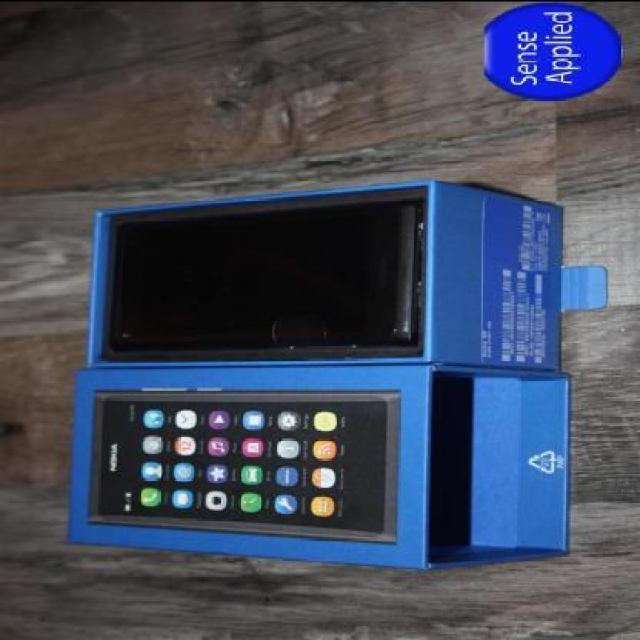phone: (63, 374, 434, 556), (112, 199, 420, 350)
